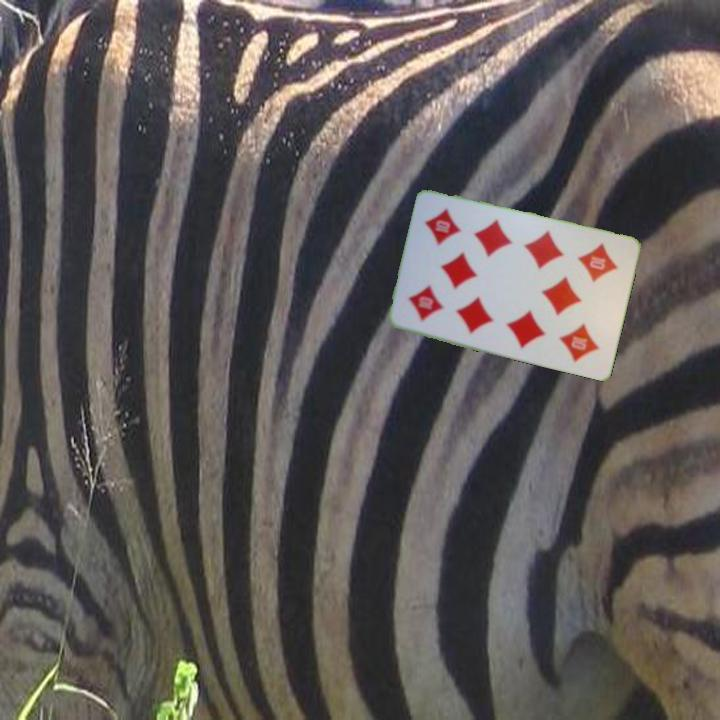d_10.png: (560, 233, 631, 311), (396, 257, 467, 334)
